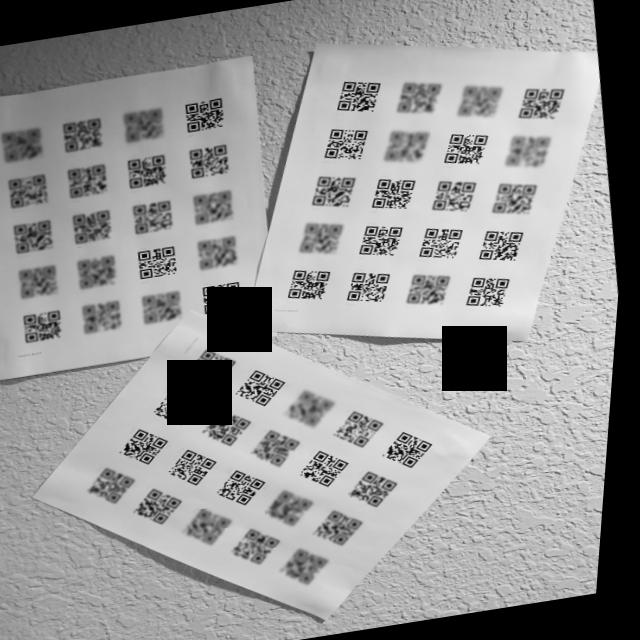QR_CODE: (322, 64, 393, 123), (182, 335, 252, 394), (494, 122, 565, 180), (117, 416, 186, 473), (484, 170, 555, 225), (507, 74, 579, 128), (82, 455, 150, 512), (149, 377, 216, 433), (445, 73, 512, 128), (279, 538, 344, 594), (297, 164, 364, 218), (230, 520, 297, 574), (286, 212, 355, 264), (461, 268, 527, 322), (273, 262, 344, 312), (53, 104, 115, 161), (362, 166, 427, 220), (283, 381, 349, 434), (383, 424, 450, 476), (349, 213, 416, 264), (410, 216, 474, 269), (373, 120, 438, 172), (219, 462, 284, 514), (249, 423, 316, 473), (314, 116, 378, 168), (233, 363, 297, 415), (351, 462, 415, 514), (298, 444, 364, 494), (435, 122, 498, 174), (130, 240, 195, 290), (202, 403, 267, 453), (316, 504, 381, 554), (0, 114, 57, 171), (386, 72, 450, 122), (340, 262, 404, 312), (401, 264, 465, 314), (334, 404, 398, 454), (182, 503, 247, 552), (135, 482, 198, 532), (176, 84, 234, 138), (425, 170, 487, 220), (11, 258, 75, 306), (474, 222, 538, 270), (269, 483, 330, 533), (118, 147, 181, 195), (195, 274, 258, 322), (169, 444, 232, 492), (73, 292, 133, 342), (128, 192, 190, 240), (115, 98, 174, 148), (181, 138, 242, 186), (4, 212, 65, 260), (192, 229, 253, 277), (59, 157, 119, 205), (15, 301, 76, 348), (135, 285, 196, 332), (70, 247, 129, 295), (1, 164, 57, 212), (190, 182, 246, 230), (66, 204, 126, 248)
